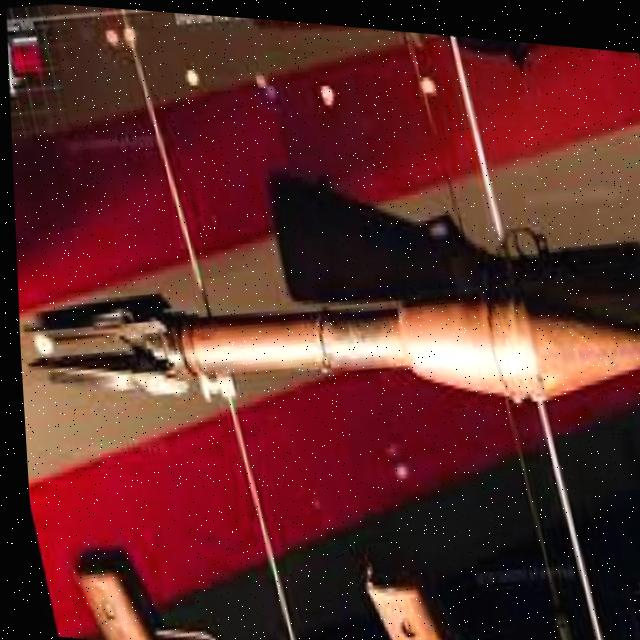grenade: (9, 203, 640, 481)
